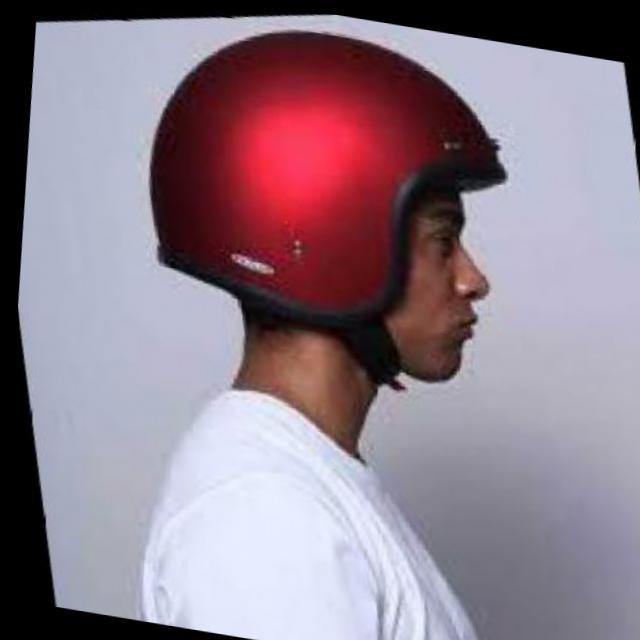Helmet: (145, 28, 508, 383)
